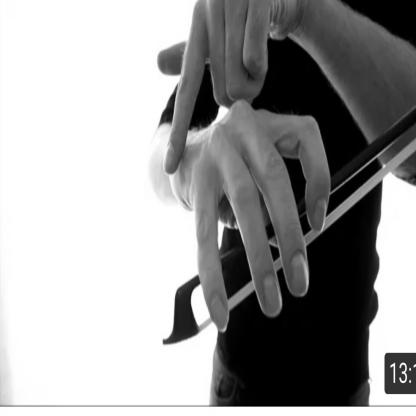bad: (183, 92, 340, 339)
